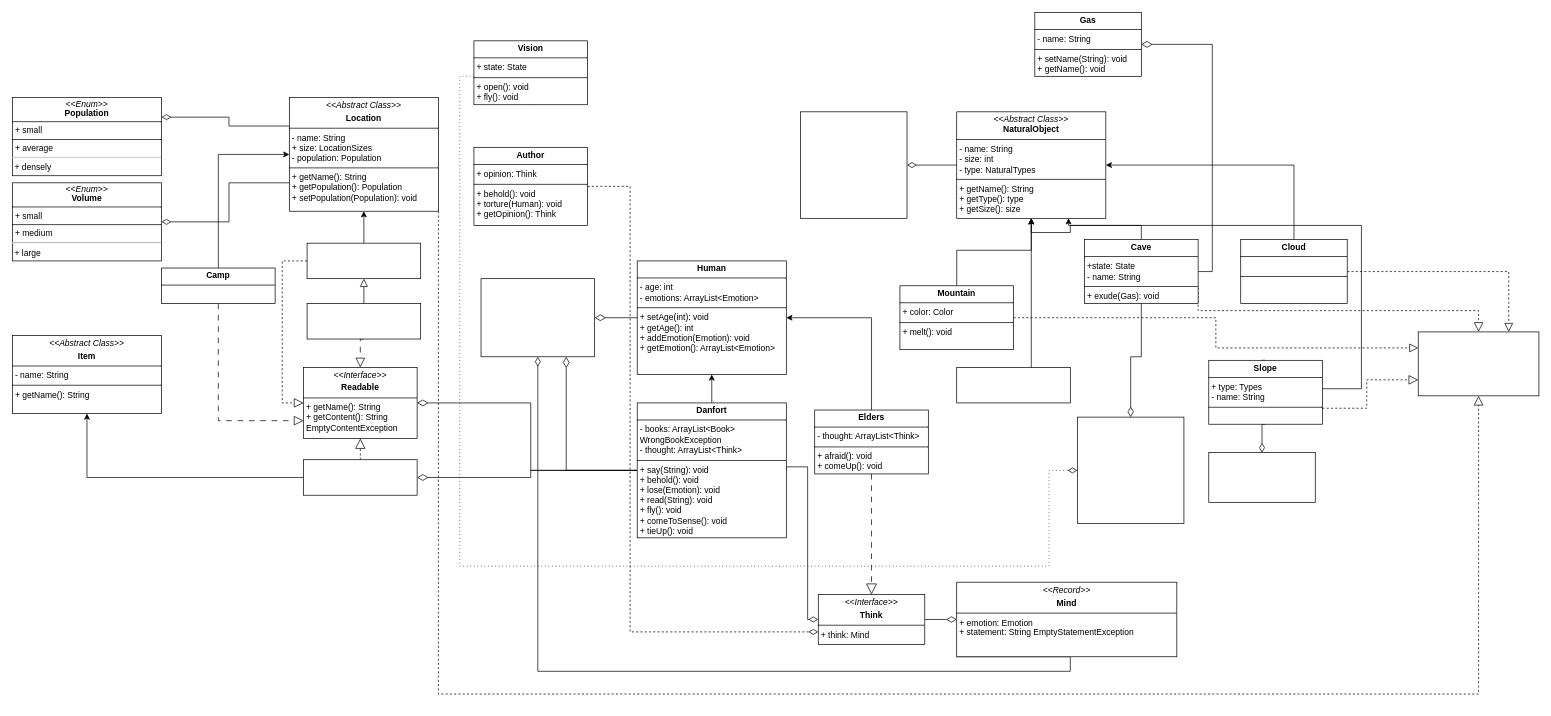
This 1551x716 diagram has some shape labels left out. The shapes that lost their labels are listed below. From the top down, each one's centre as x and y in pixels, then its label:
point (853, 164): <<Enum>> NaturalTypes + Mountain + Cave + Slope
point (363, 260): University
point (363, 321): Library
point (537, 317): <<Enum>> Emotion + fear + peace + horror
point (1478, 363): <<Interface>> Changeable + setAtmosphere(): void
point (1013, 385): Mirage
point (360, 477): Book
point (1130, 470): <<Enum>> State + Singing + Demonic
point (1261, 477): <<Enum>> Types + Cube
